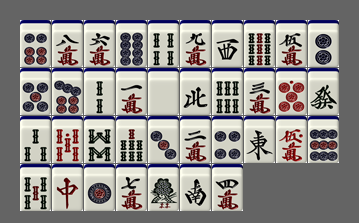0m: (276, 116, 307, 163)
0p: (276, 68, 307, 115)
0s: (52, 116, 83, 163)
1m: (116, 68, 147, 115)
1p: (84, 164, 115, 211)
1s: (148, 164, 179, 211)
1z: (244, 116, 275, 163)
2m: (180, 116, 211, 163)
2p: (308, 20, 339, 67)
2s: (84, 68, 115, 115)
2z: (180, 164, 211, 211)
3m: (244, 68, 275, 115)
3p: (148, 116, 179, 163)
3s: (20, 116, 51, 163)
3z: (212, 20, 243, 67)
4m: (212, 164, 243, 211)
4p: (212, 116, 243, 163)
4s: (148, 20, 179, 67)
4z: (180, 68, 211, 115)
5m: (276, 20, 307, 67)
5p: (20, 68, 51, 115)
5s: (20, 164, 51, 211)
5z: (148, 68, 179, 115)
6m: (84, 20, 115, 67)
6p: (20, 20, 51, 67)
6s: (212, 68, 243, 115)
6z: (308, 68, 339, 115)
7m: (116, 164, 147, 211)
7p: (52, 68, 83, 115)
7s: (116, 116, 147, 163)
7z: (52, 164, 83, 211)
8m: (52, 20, 83, 67)
8p: (116, 20, 147, 67)
8s: (84, 116, 115, 163)
9m: (180, 20, 211, 67)
9p: (308, 116, 339, 163)
9s: (244, 20, 275, 67)
